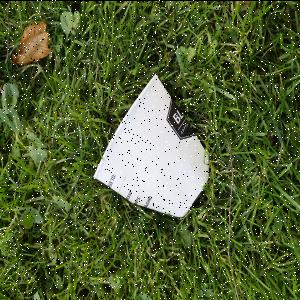Cup: (92, 70, 214, 222)
